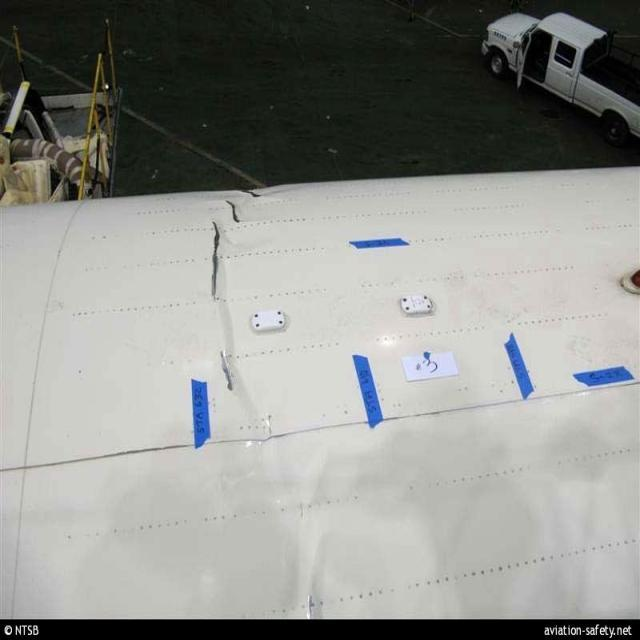crack: (208, 215, 225, 302), (219, 196, 249, 230), (215, 347, 236, 393)
